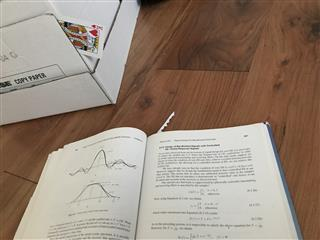KingOfHearts: (56, 14, 105, 58)
